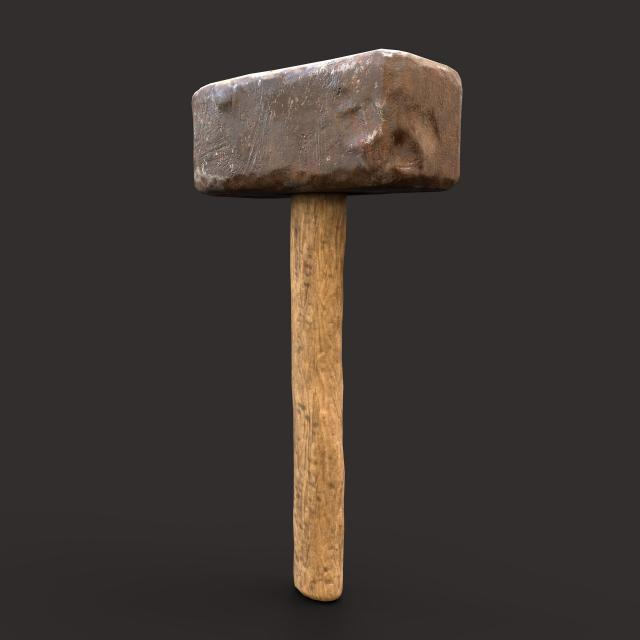hammer: (176, 45, 467, 612)
